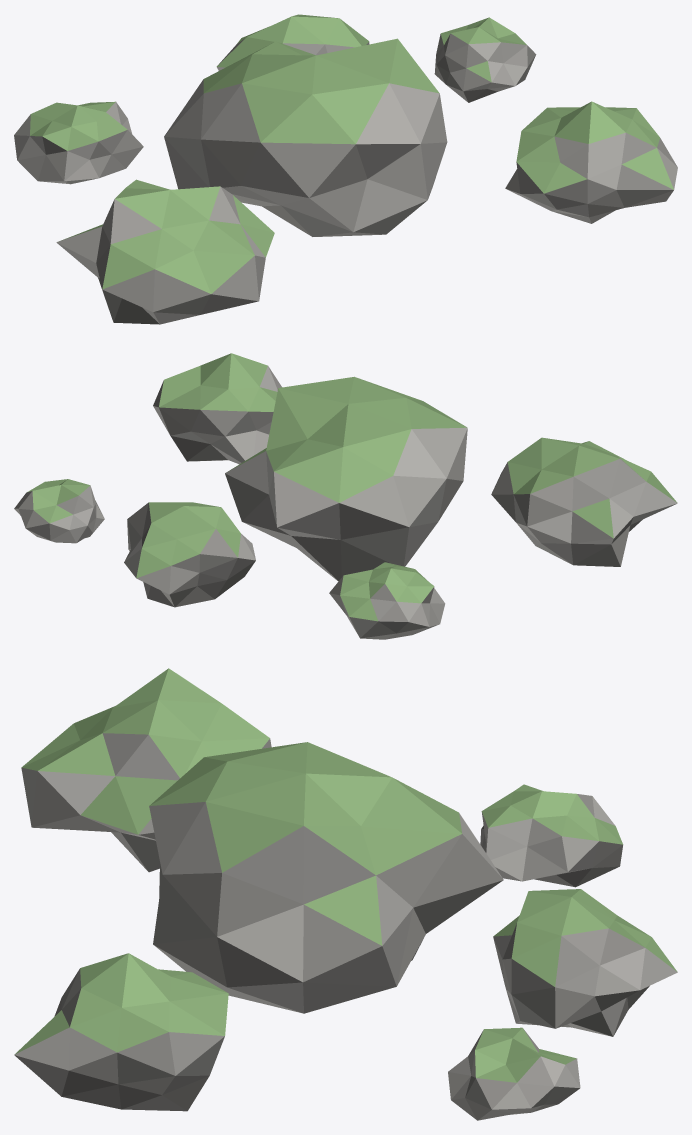
Rendered from rocks.glb.
3 renders of one model, top to bottom at view 1: azimuth 30°, elevation 25°; view 2: azimuth 150°, elevation 25°; view 3: azimuth 270°, elevation 25°, orthographic. The views are drawn at different scales.
Parts seen in each view (by area): view 1: rocks; view 2: rocks; view 3: rocks.
Part boxes in pixels (x1=…): rocks: x1=14, y1=14, x2=677, y2=324; rocks: x1=14, y1=353, x2=677, y2=639; rocks: x1=14, y1=668, x2=677, y2=1120.
Bounding box in the file's own units: 2.88 × 0.8021 × 2.25.
